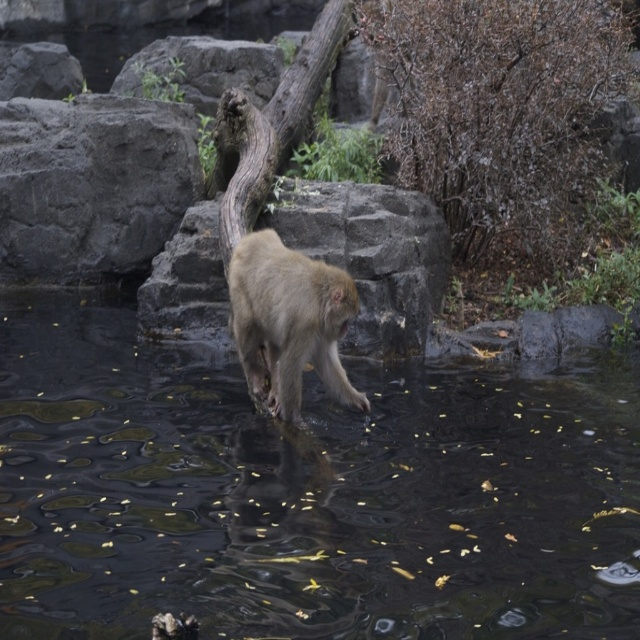Monkey: (219, 232, 369, 441)
